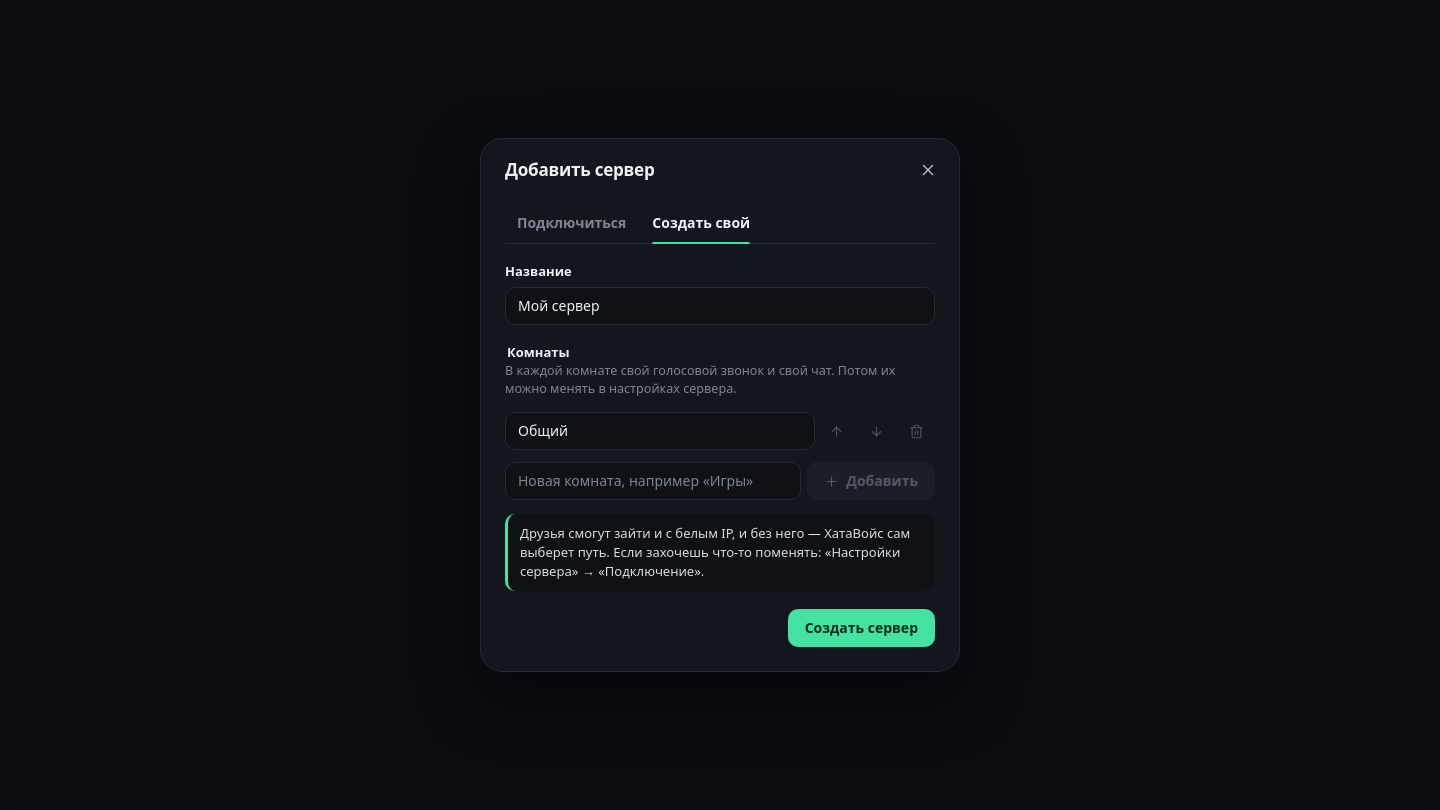
Scenario: creating a server › a busy port brings the port fields, which refuse ports that clash
The width and height of the screenshot is (1440, 810).
Later steps or results of the test are not shown.
Step 1. Click the button "Создать сервер" → click(861, 628), box [788,609,935,647]
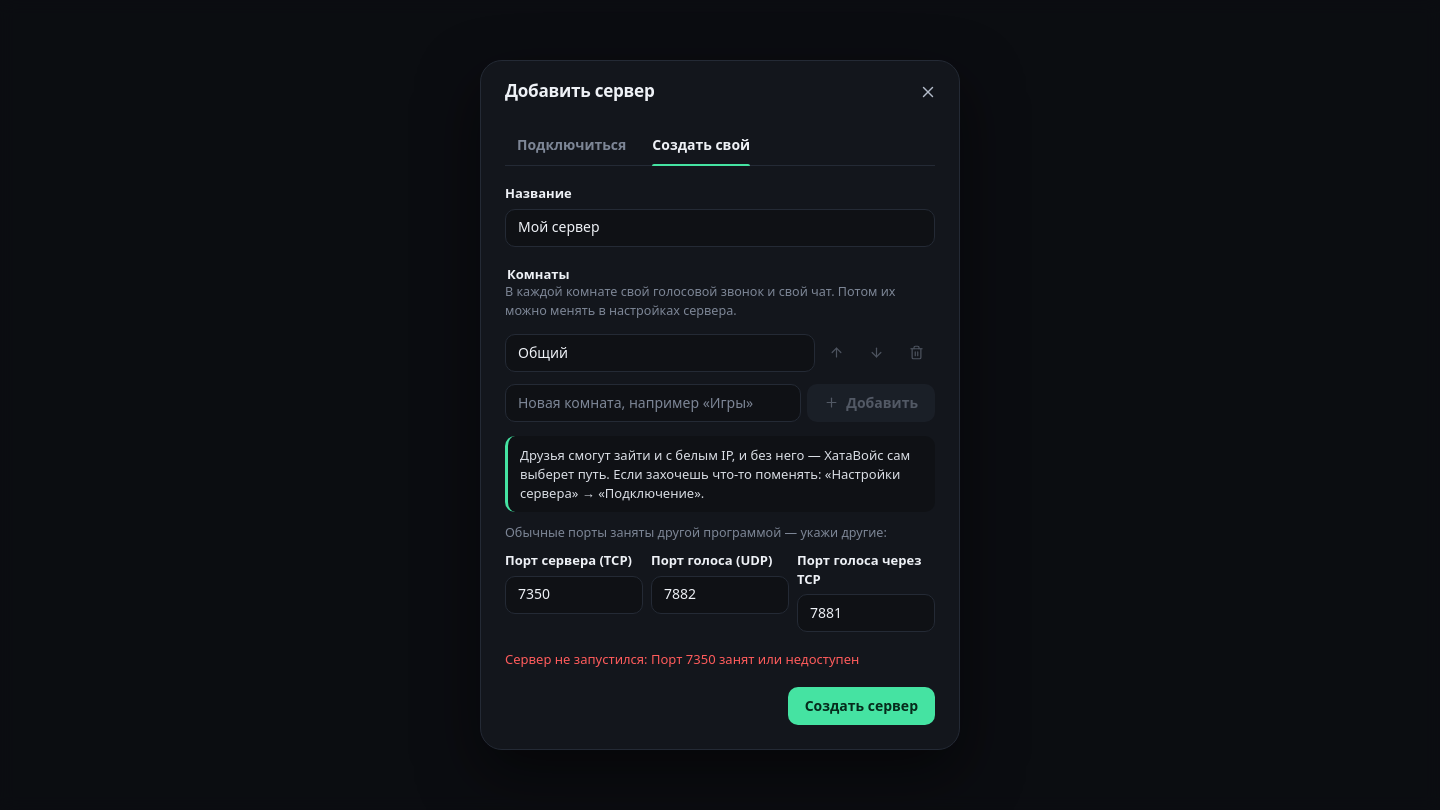
Result: the text "Обычные порты заняты другой программой — укажи другие:" is shown at [505,524,935,543]
Step 2. Replace the text in the number field labelled "Порт сервера (TCP)" with "7882" → (574, 595), box [505,576,643,614]
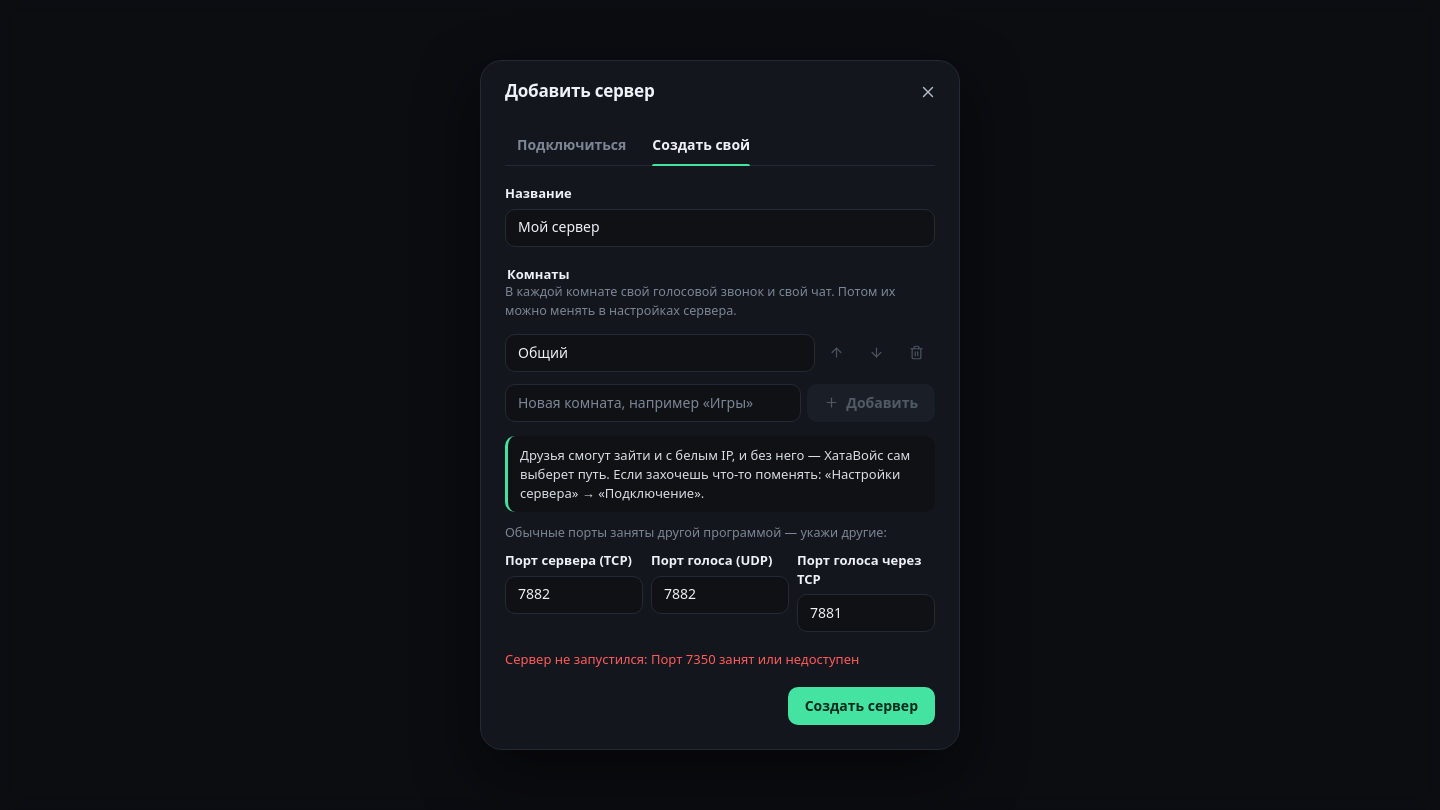
Step 3. Click the button "Создать сервер" → click(861, 706), box [788,687,935,725]
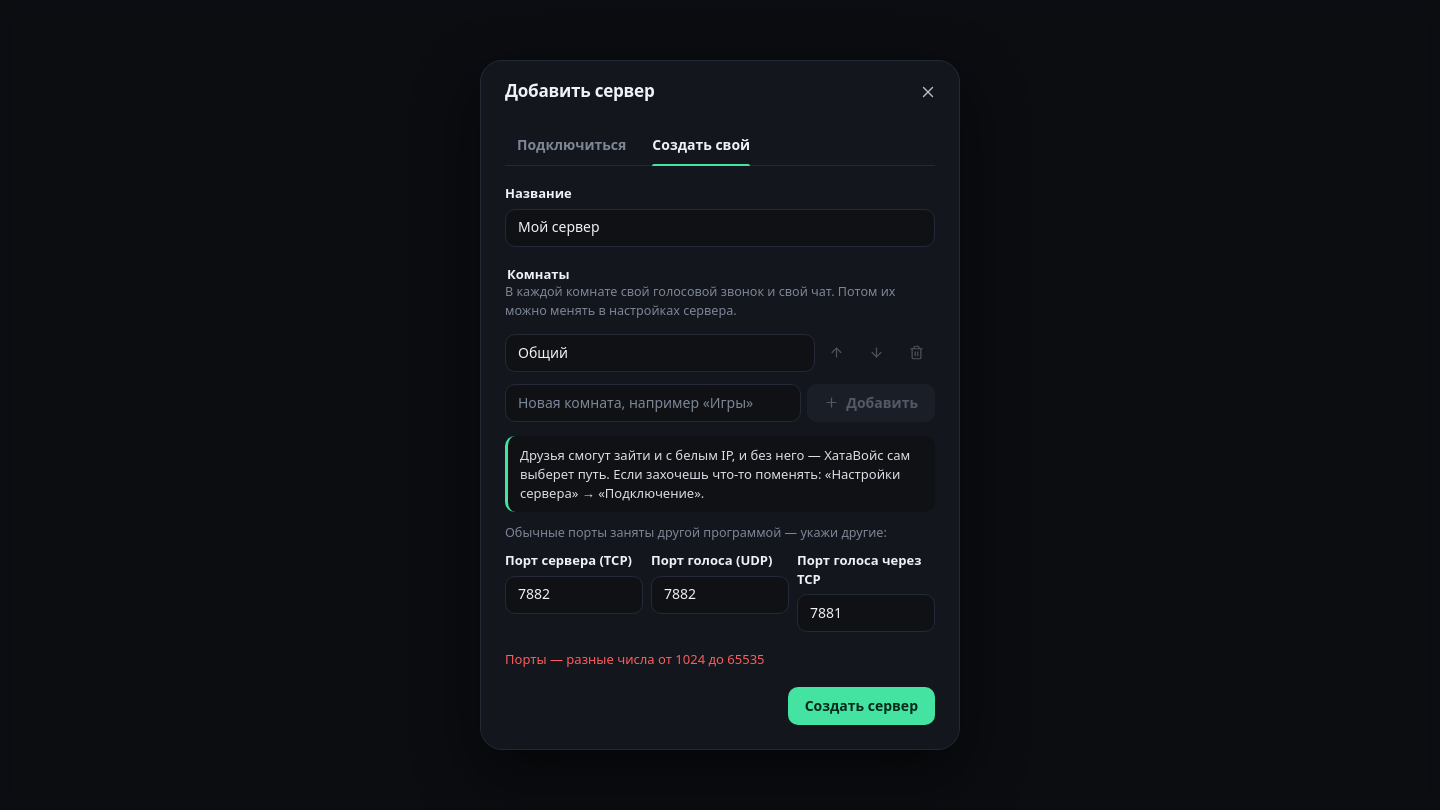
Result: the text "Порты — разные числа от 1024 до 65535" is shown at [505,650,764,668]
